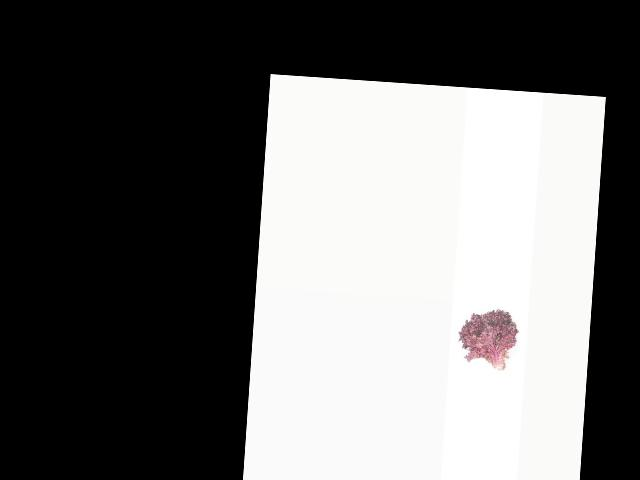lettuce: (454, 303, 517, 377)
